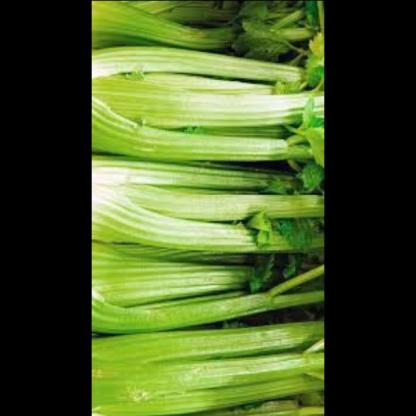celery: (92, 1, 324, 412)
